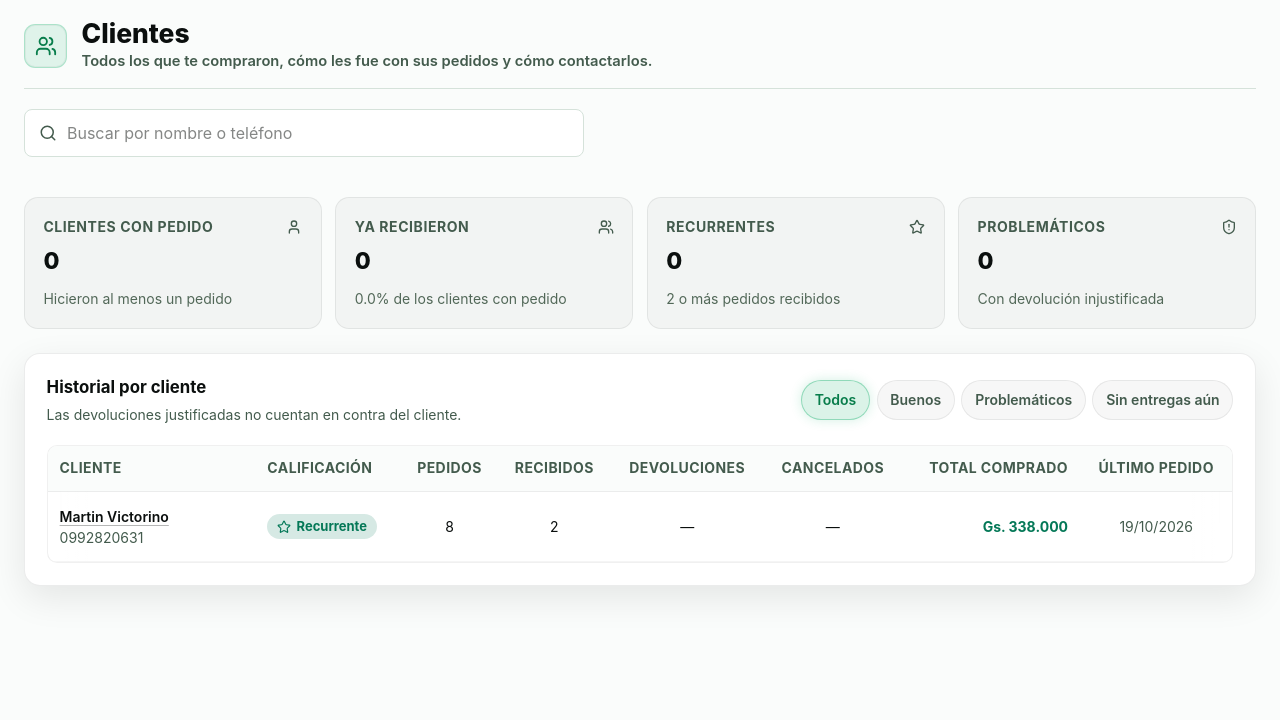
Módulo Clientes › abre la ficha con sus pedidos y contacto, y la cierra con Escape
Click the button with aria-label "Ver ficha de Martin Victorino". click: (114, 516)
box: [60,506,169,526]
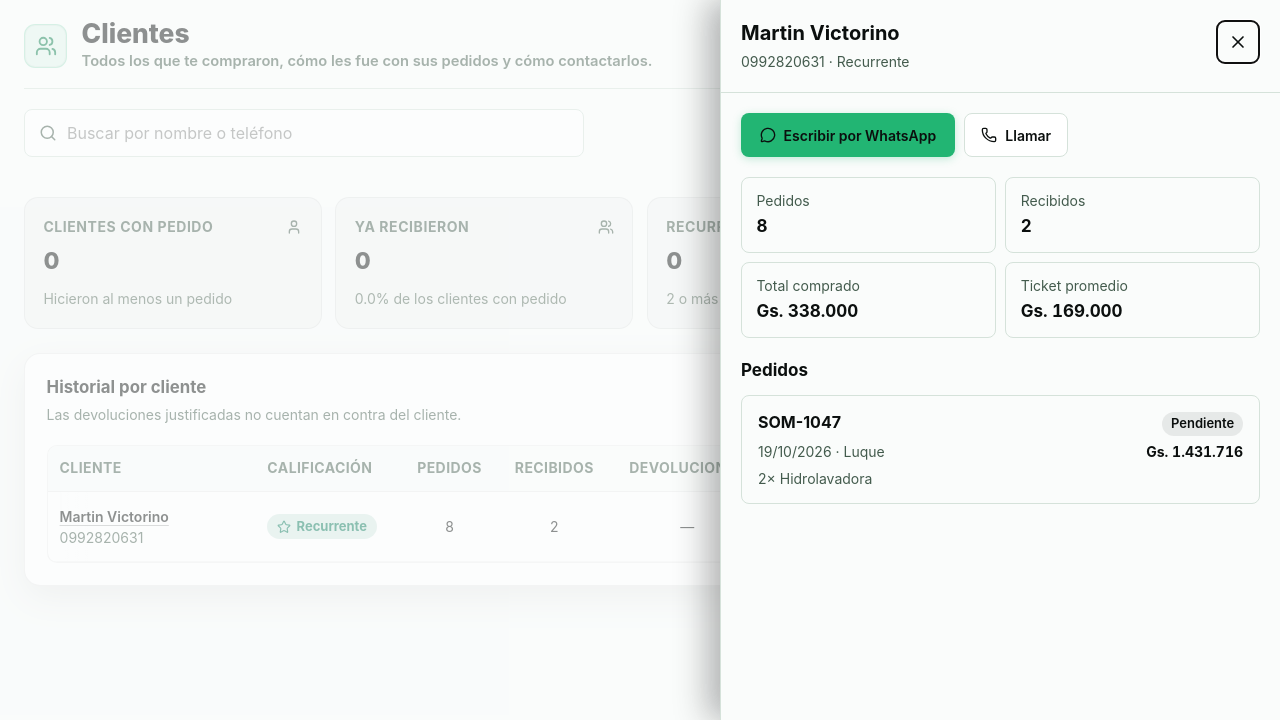
expect the text "SOM-1047" is shown: met, box [758,410,841,434]
expect the text "2× Hidrolavadora" is shown: met, box [758,470,872,487]
expect the text "19/10/2026 · Luque" is shown: met, box [758,441,885,462]
Press Escape
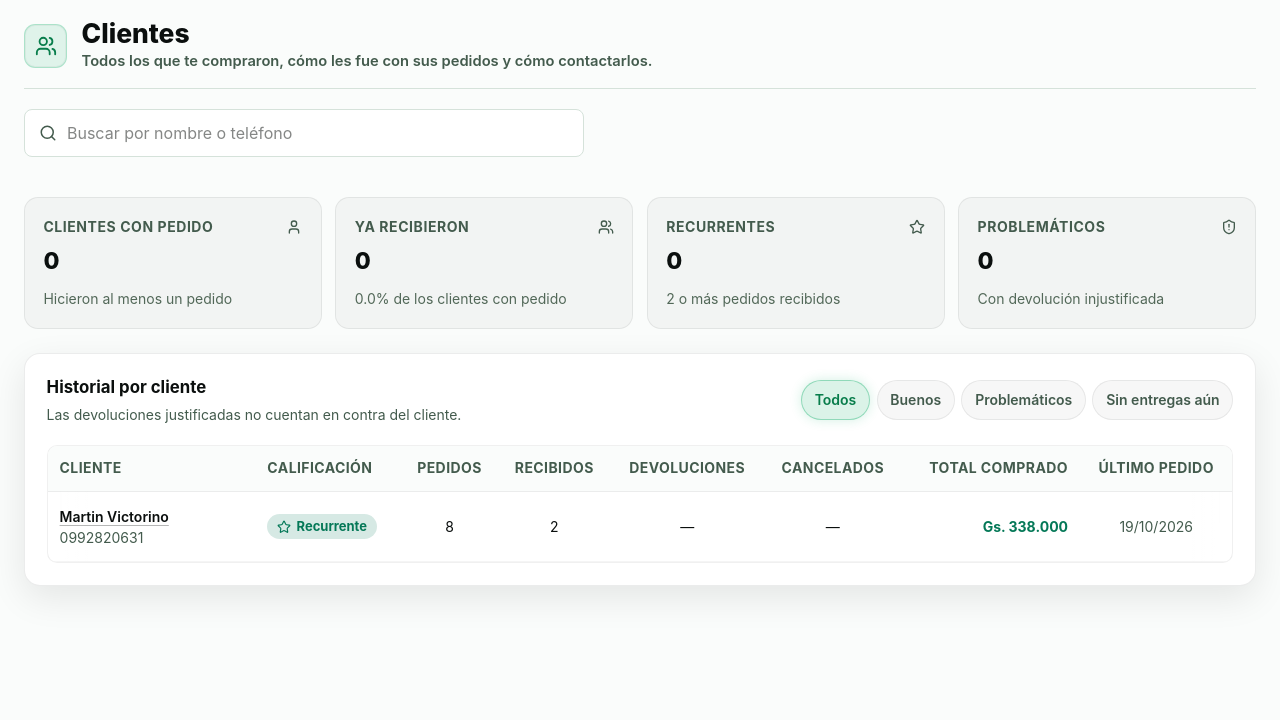
expect the dialog is gone: met
